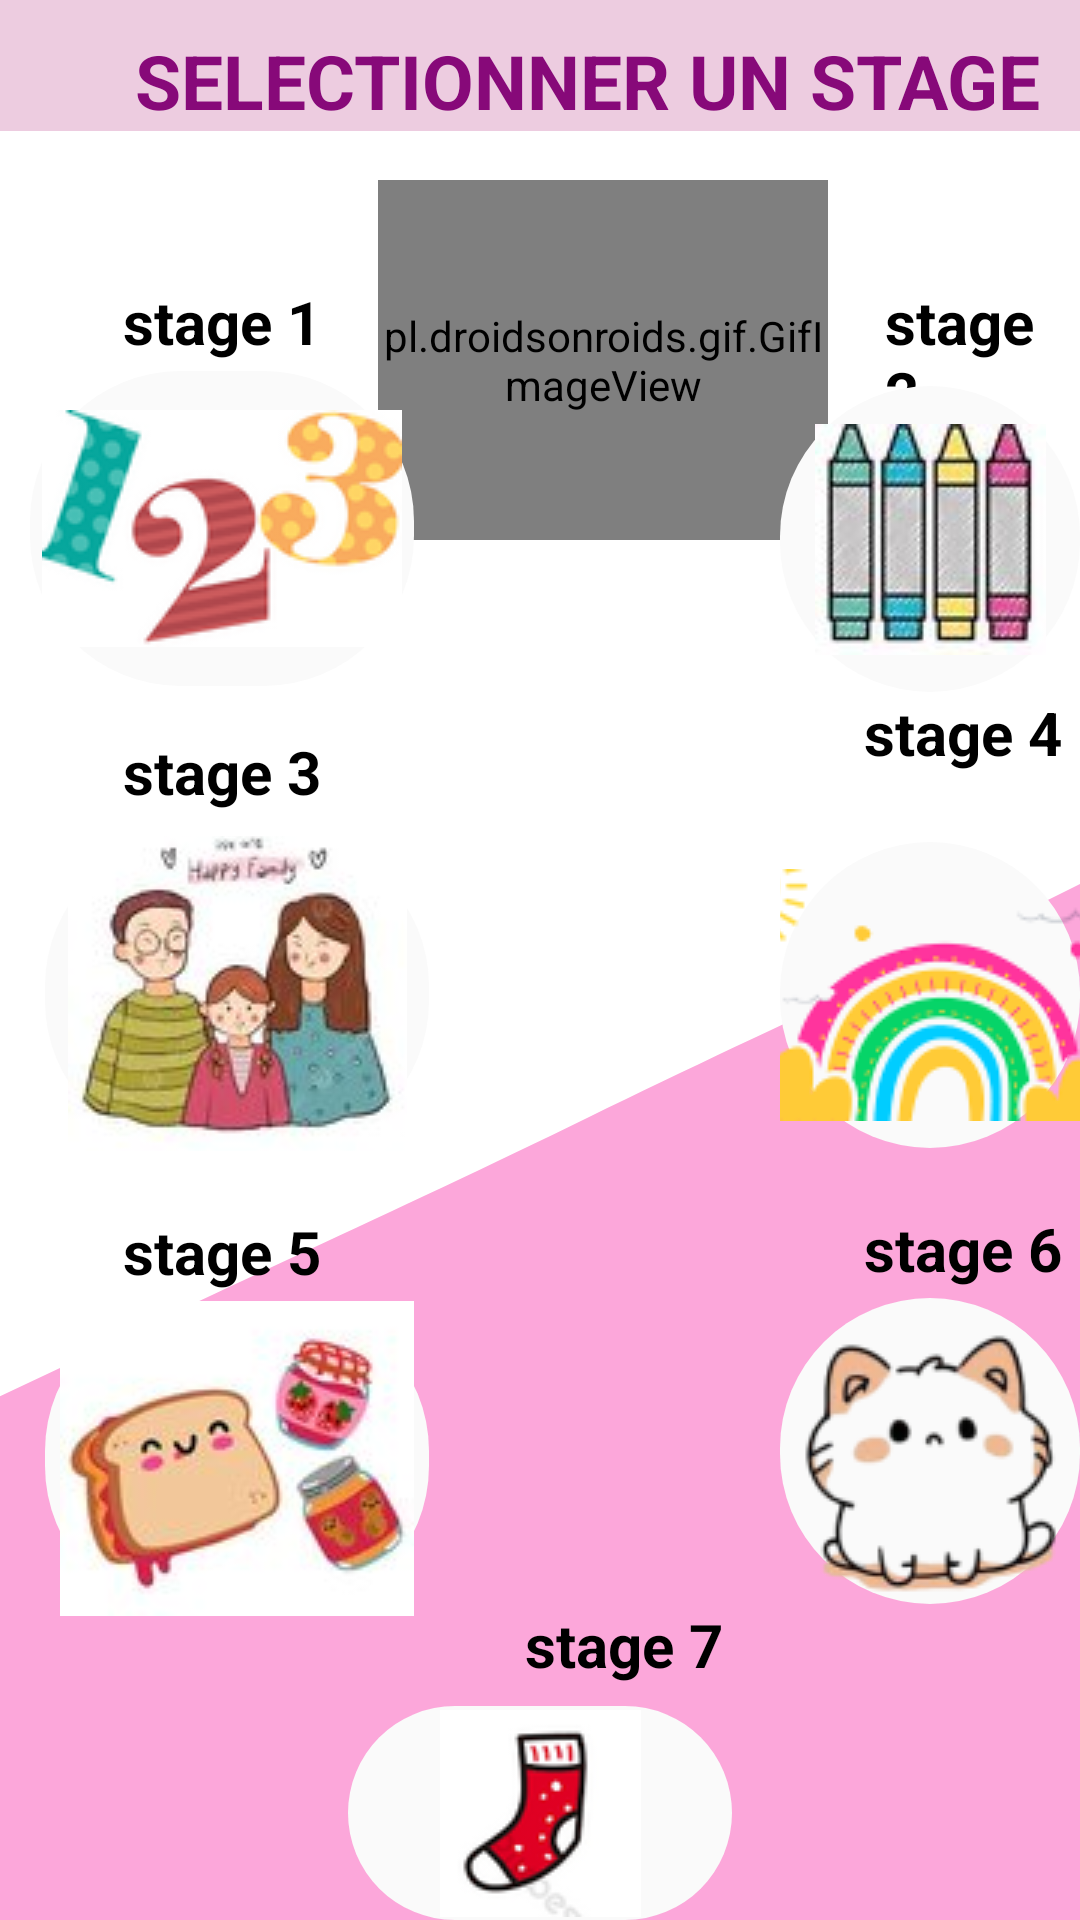

Icon click points for this 1080 x 1920 phone screenshot, format [x,y]:
rainbowback rev: [930,995]
smolcatprev: [930,1451]
